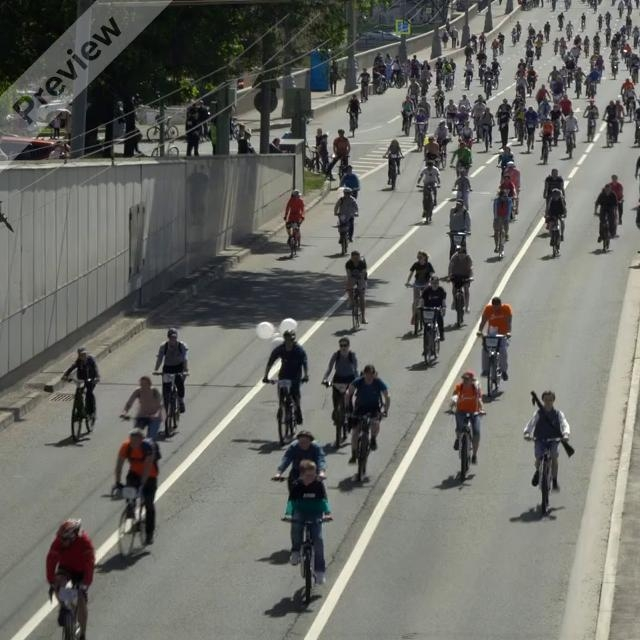bicycle: (280, 514, 332, 609), (523, 434, 568, 515), (110, 481, 156, 559), (263, 376, 308, 445), (444, 409, 486, 482), (346, 410, 386, 482), (49, 571, 89, 639), (151, 371, 189, 437), (62, 376, 99, 442), (476, 331, 510, 397), (321, 380, 351, 448), (416, 305, 445, 367), (404, 282, 431, 337), (448, 276, 474, 327), (347, 276, 368, 331), (332, 213, 357, 256), (594, 208, 617, 253), (416, 184, 440, 224), (544, 213, 565, 257), (491, 215, 510, 259), (284, 217, 304, 258), (382, 153, 404, 189), (446, 229, 471, 259), (507, 188, 521, 221), (335, 154, 350, 182)
